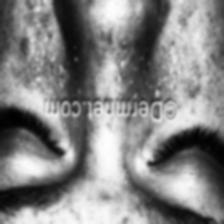Non-Cancerous Skin Condition: (11, 25, 86, 97), (112, 48, 186, 100)
